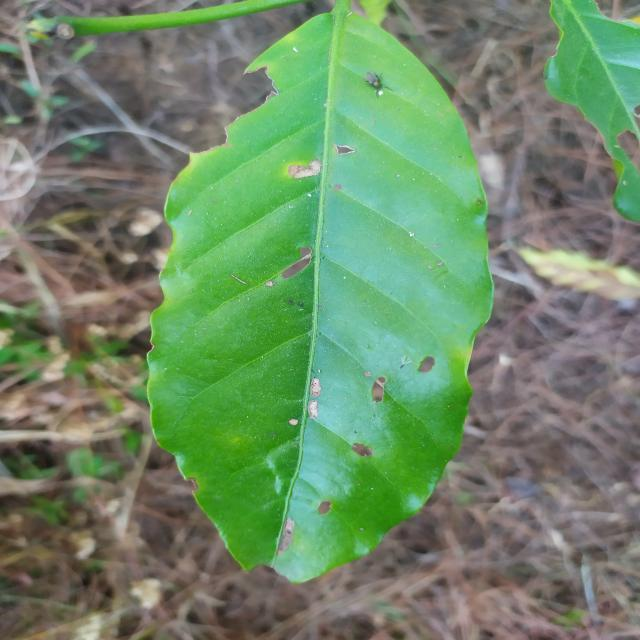leaves: (91, 0, 551, 611)
